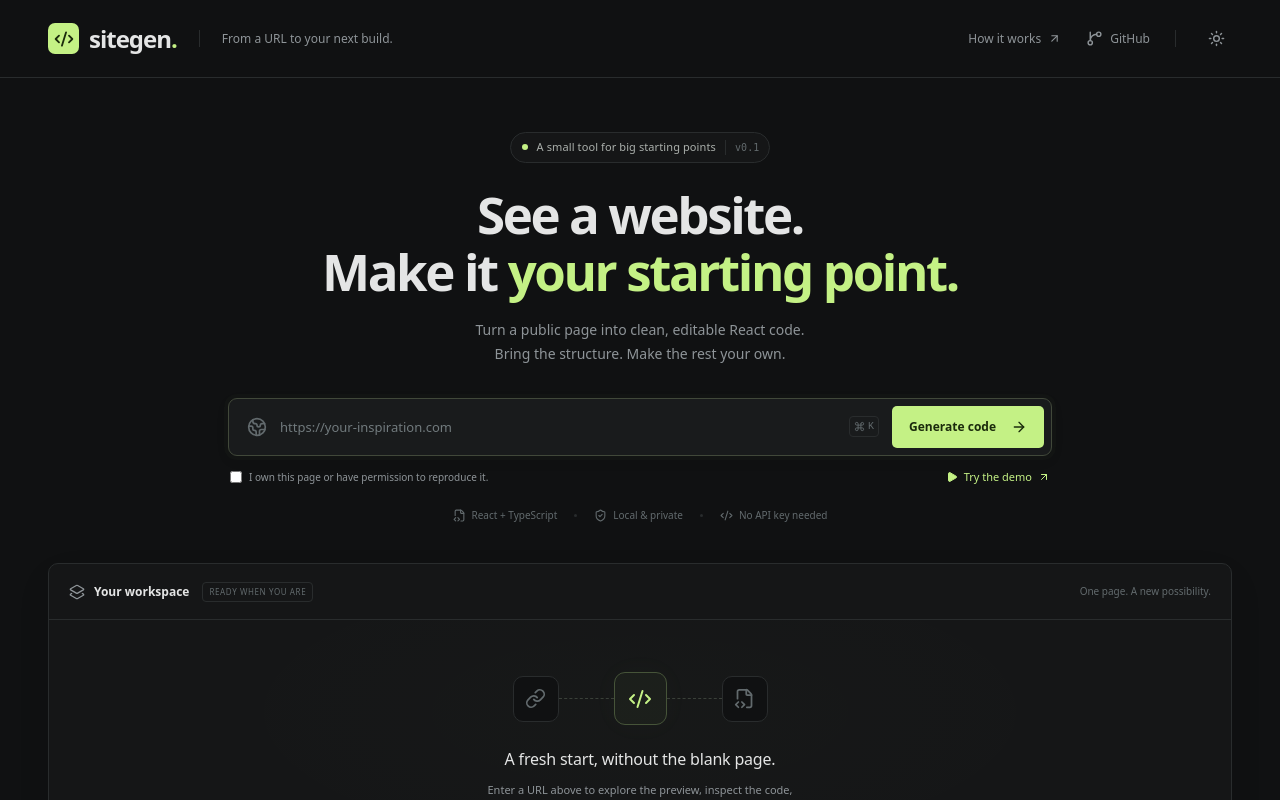
Test: important frontend interactions › reports API and network errors without showing success
This screenshot has width=1280, height=800.
Click the button "Try the demo": click(998, 477) [946,469,1050,485]
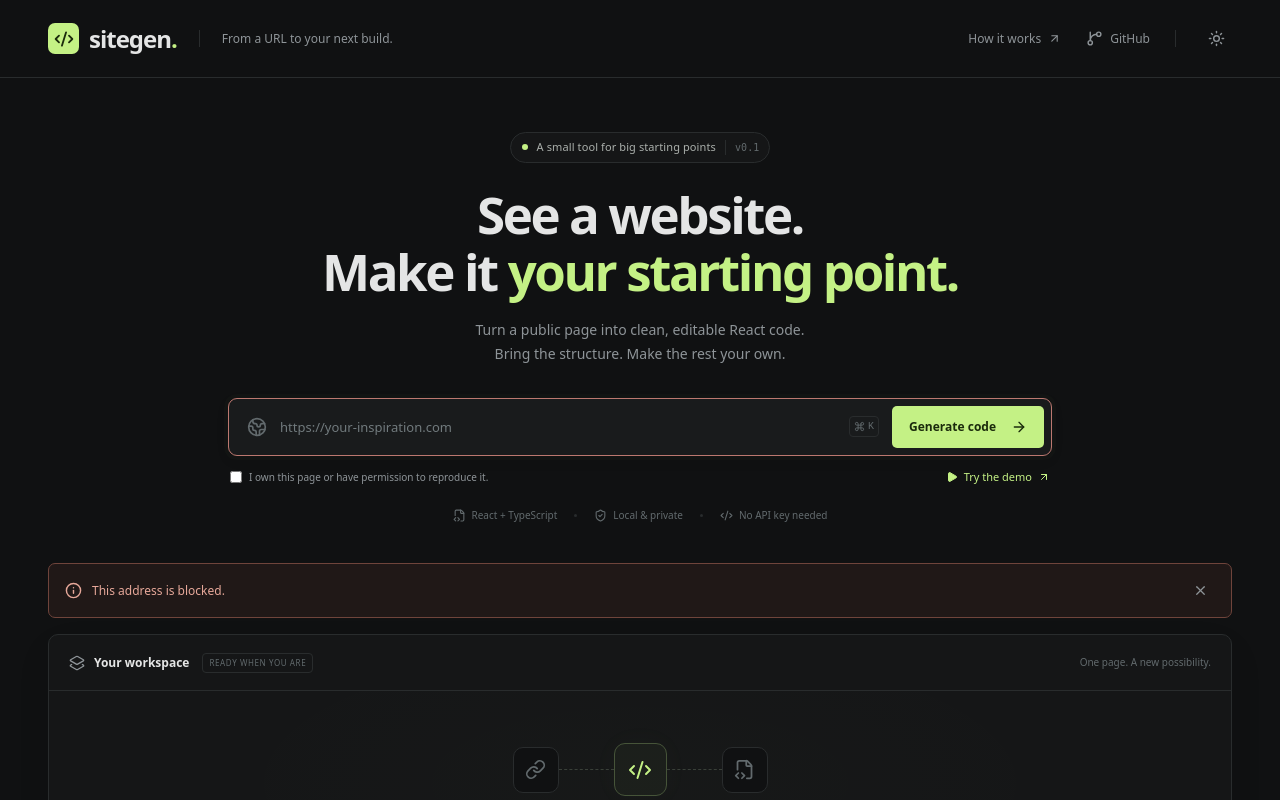
Expected: the message reads "This address is blocked.", [92,582,225,599]
